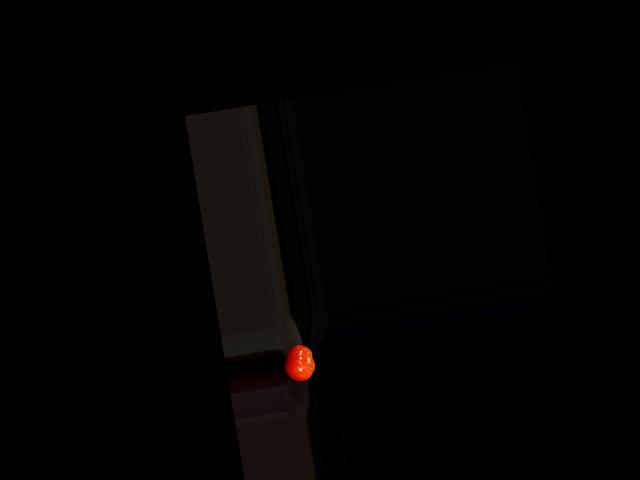tomato: (281, 343, 317, 384)
